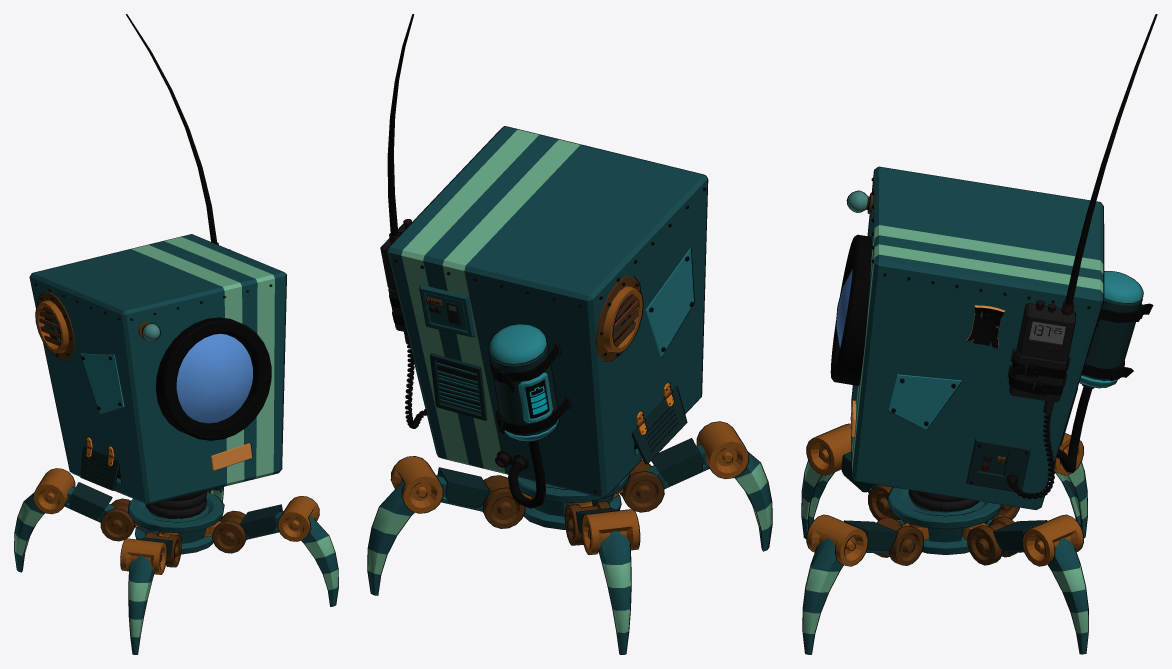
Rendered from robo_V2.fbx.
3 views of the same model, side by side, from view 1: azimuth 30°, elevation 25°; view 2: azimuth 150°, elevation 25°; view 3: azimuth 270°, elevation 25° (orthographic). The views are drawn at different scales.
Parts seen in each view (by area): view 1: Object041, Object040; view 2: Object041, Object040; view 3: Object041, Object040.
Part boxes in pixels (<box>): Object041: <box>14,234,338,654</box>; Object040: <box>14,14,338,654</box>; Object041: <box>368,126,771,654</box>; Object040: <box>367,14,772,654</box>; Object041: <box>802,167,1143,654</box>; Object040: <box>801,14,1157,654</box>.
Bounding box in the file's own units: 39.84 × 92.3 × 49.33.
